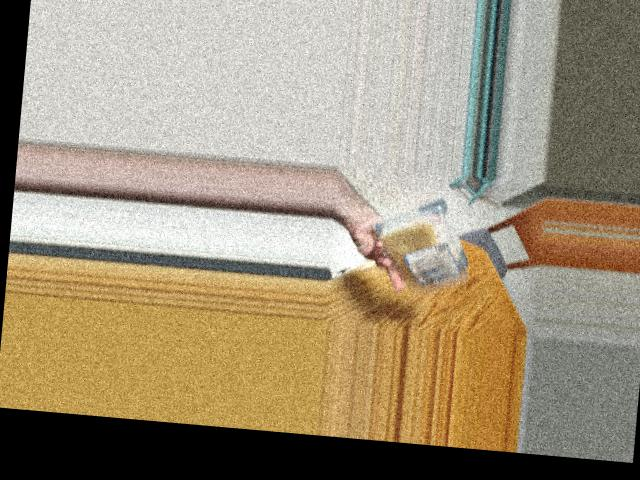cheese: (371, 199, 480, 287)
